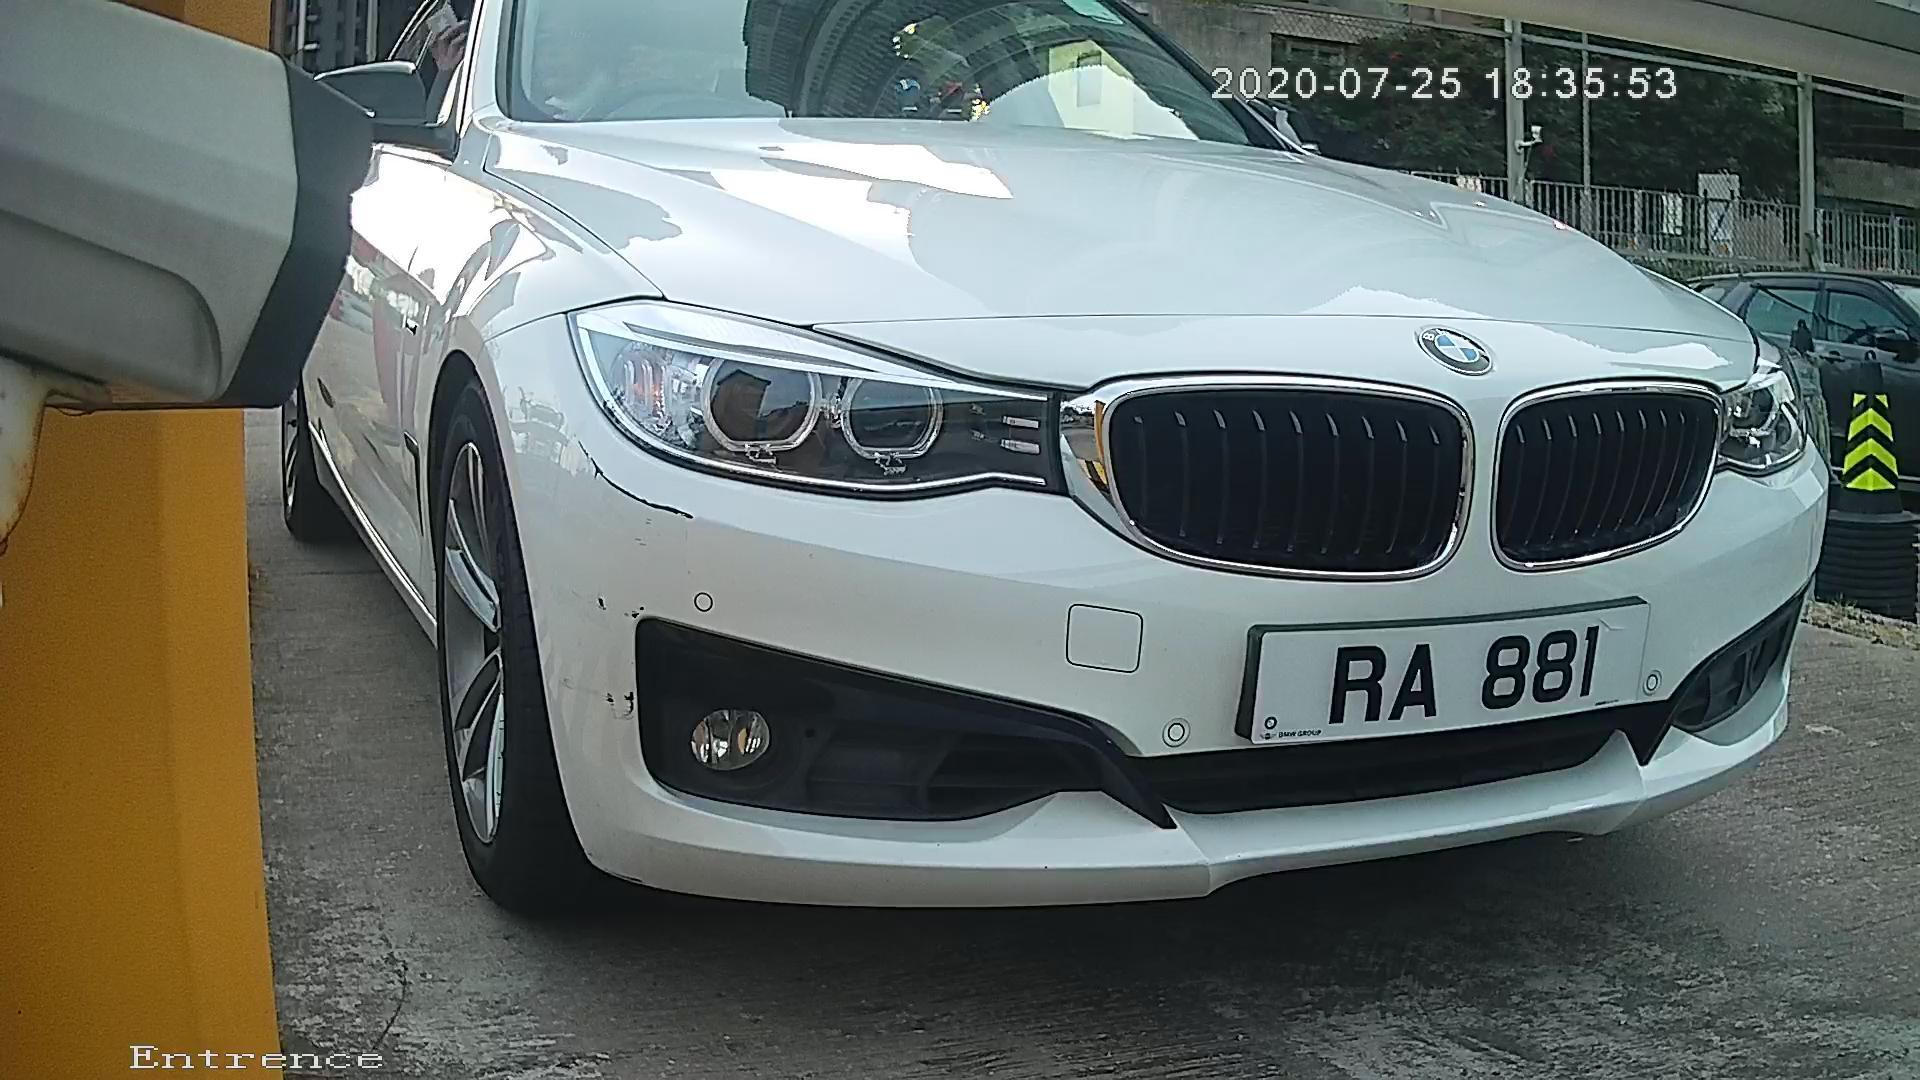privatecar: (276, 15, 1920, 949)
